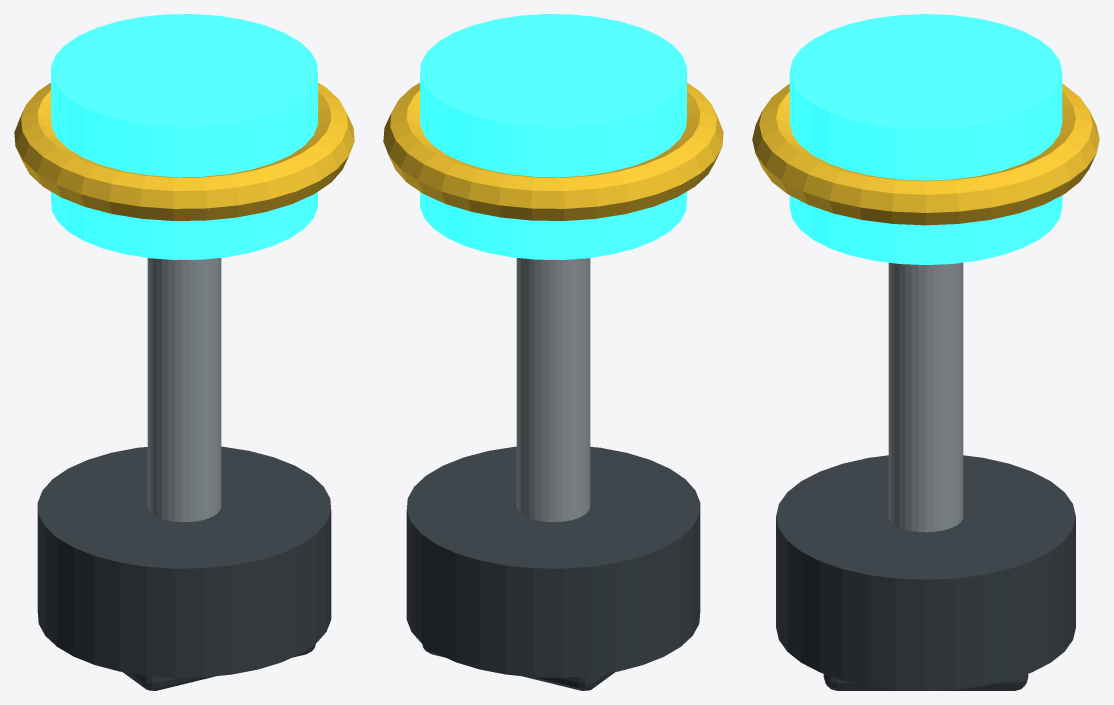
Rendered from beacon_variant_a.glb.
3 renders of one model, left to right at view 1: azimuth 30°, elevation 25°; view 2: azimuth 150°, elevation 25°; view 3: azimuth 270°, elevation 25°, orthographic.
Parts seen in each view (by area): view 1: Beacon base, Beacon lamp, Beacon mast, Lamp guard, Mounting magnet; view 2: Beacon base, Beacon lamp, Beacon mast, Lamp guard, Mounting magnet; view 3: Beacon base, Beacon lamp, Beacon mast, Lamp guard, Mounting magnet.
Part boxes in pixels (x1,y1,x2,y2): Beacon base: [37, 446, 331, 677]; Beacon lamp: [51, 14, 317, 259]; Beacon mast: [147, 258, 221, 522]; Lamp guard: [14, 82, 354, 220]; Mounting magnet: [123, 644, 315, 690]; Beacon base: [406, 446, 700, 677]; Beacon lamp: [420, 14, 686, 259]; Beacon mast: [516, 258, 590, 522]; Lamp guard: [383, 82, 723, 220]; Mounting magnet: [422, 644, 614, 690]; Beacon base: [776, 455, 1075, 690]; Beacon lamp: [789, 14, 1062, 264]; Beacon mast: [888, 262, 963, 532]; Lamp guard: [752, 84, 1099, 225]; Mounting magnet: [823, 674, 1028, 690].
Size of what is drawn, in the model's own units: 0.51 by 0.94 by 0.51.
